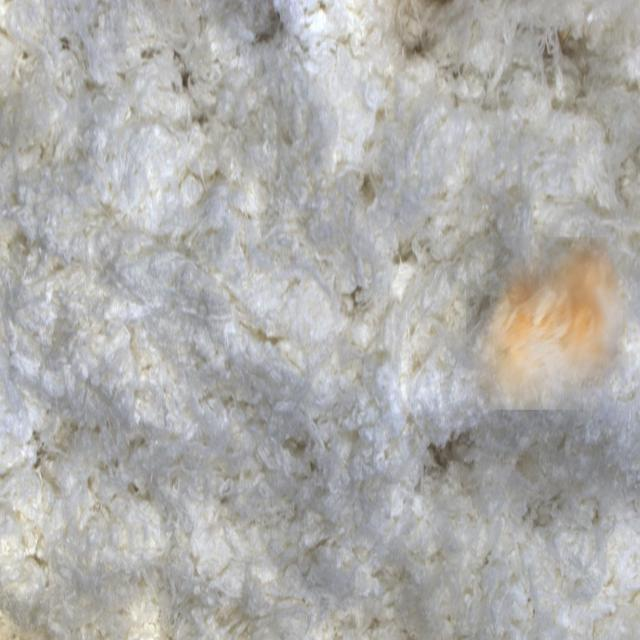dust: (466, 237, 629, 410)
